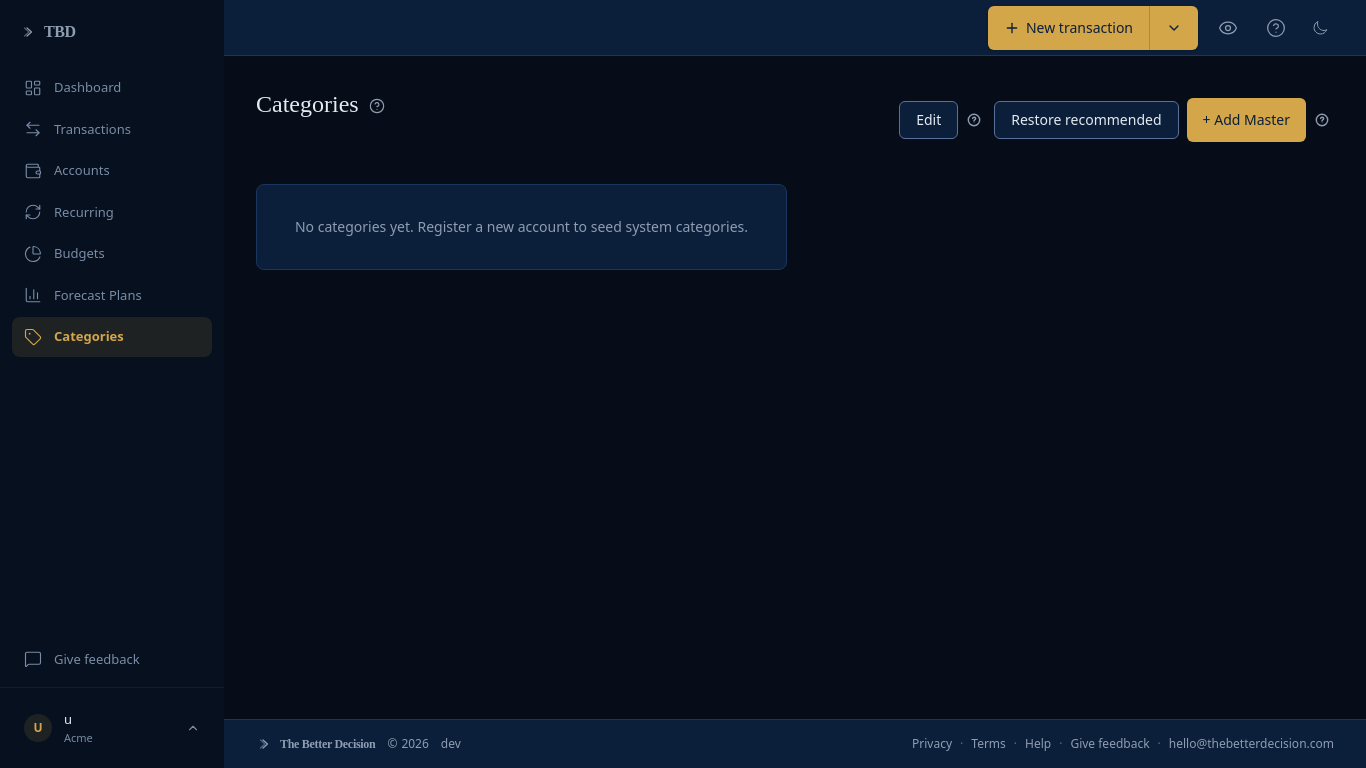
Test: CategoriesPage Restore recommended button › posts to the endpoint and surfaces the created count on success
Click the button with test id "restore-recommended-categories": (1086, 120) [994,101,1178,139]
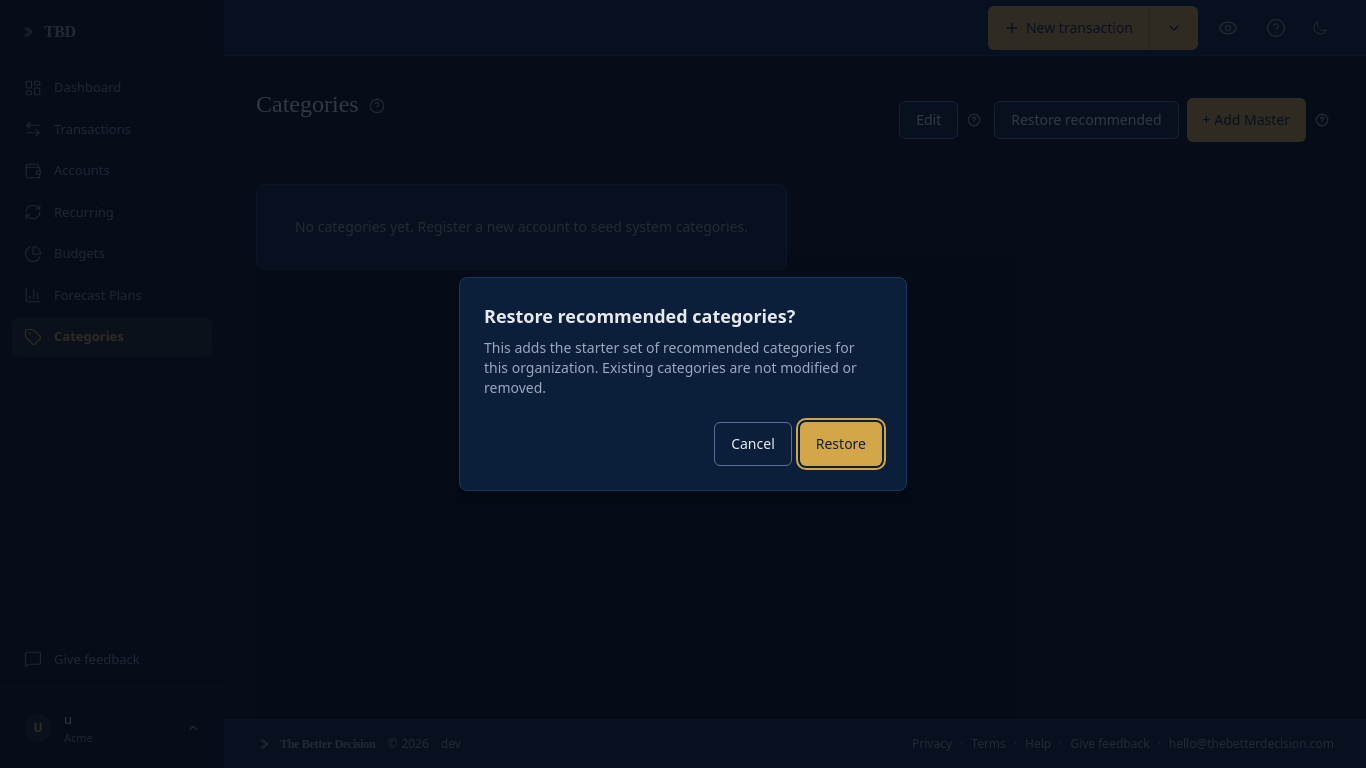
# ConfirmModal renders the "Restore" confirm button.
Click the button "Restore": (841, 444) [800,422,882,466]
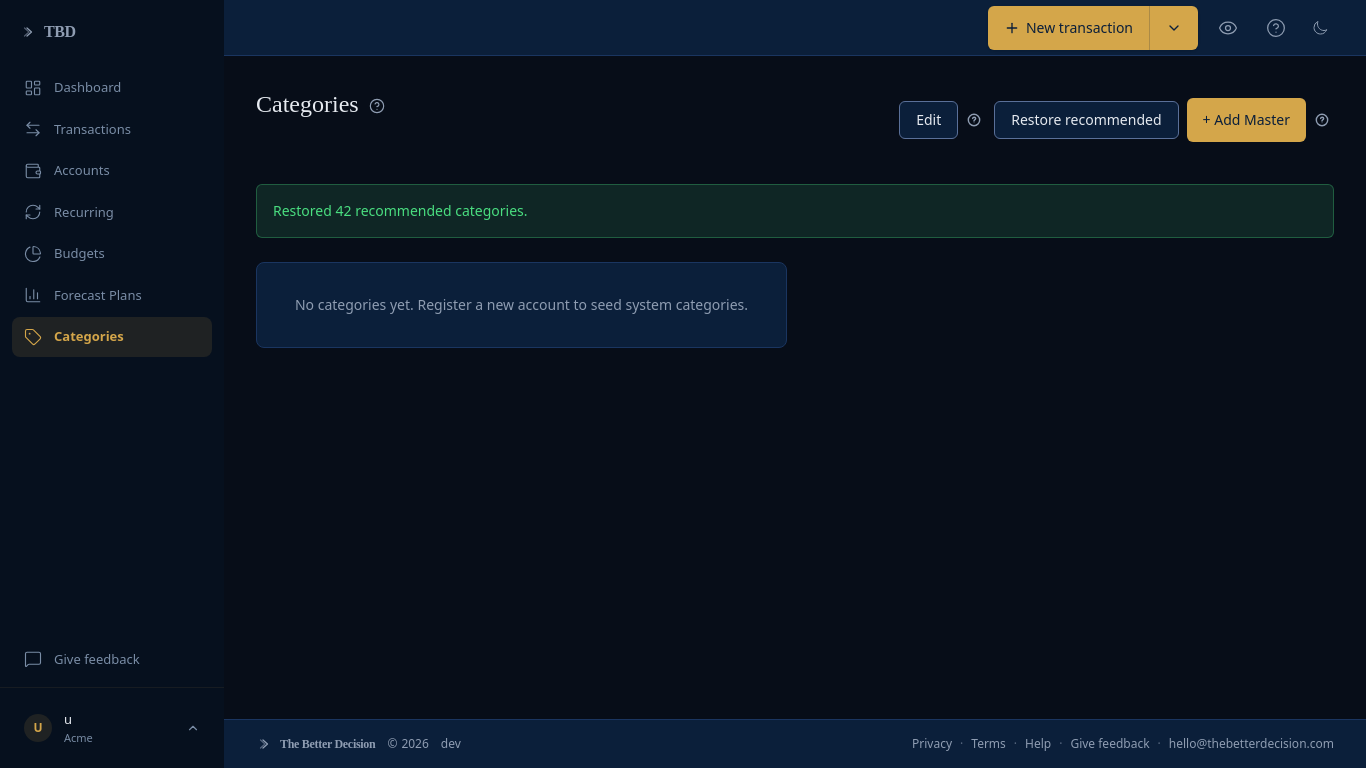
Check: the message with test id "restore-recommended-success" shows "Restored 42", box [273,201,528,220]
